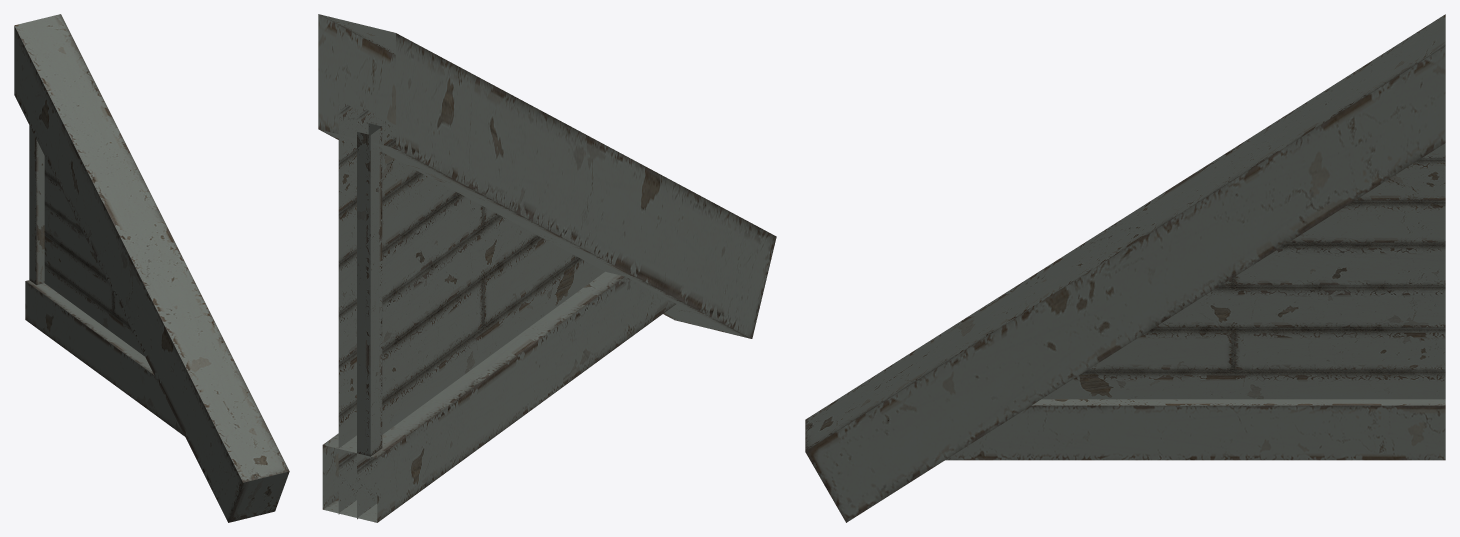
Rendered from SM_Roof200EndRight.FBX.
3 renders of one model, left to right at view 1: azimuth 30°, elevation 25°; view 2: azimuth 150°, elevation 25°; view 3: azimuth 270°, elevation 25°, orthographic. The views are drawn at different scales.
Parts seen in each view (by area): view 1: SM_Roof200EndRight; view 2: SM_Roof200EndRight; view 3: SM_Roof200EndRight.
Boxes of the visible parts, left/top/right/bottom form: SM_Roof200EndRight: left=14, top=14, right=289, bottom=522; SM_Roof200EndRight: left=318, top=14, right=776, bottom=522; SM_Roof200EndRight: left=805, top=14, right=1445, bottom=522.
Bounding box in the file's own units: 35.56 × 248 × 302.
